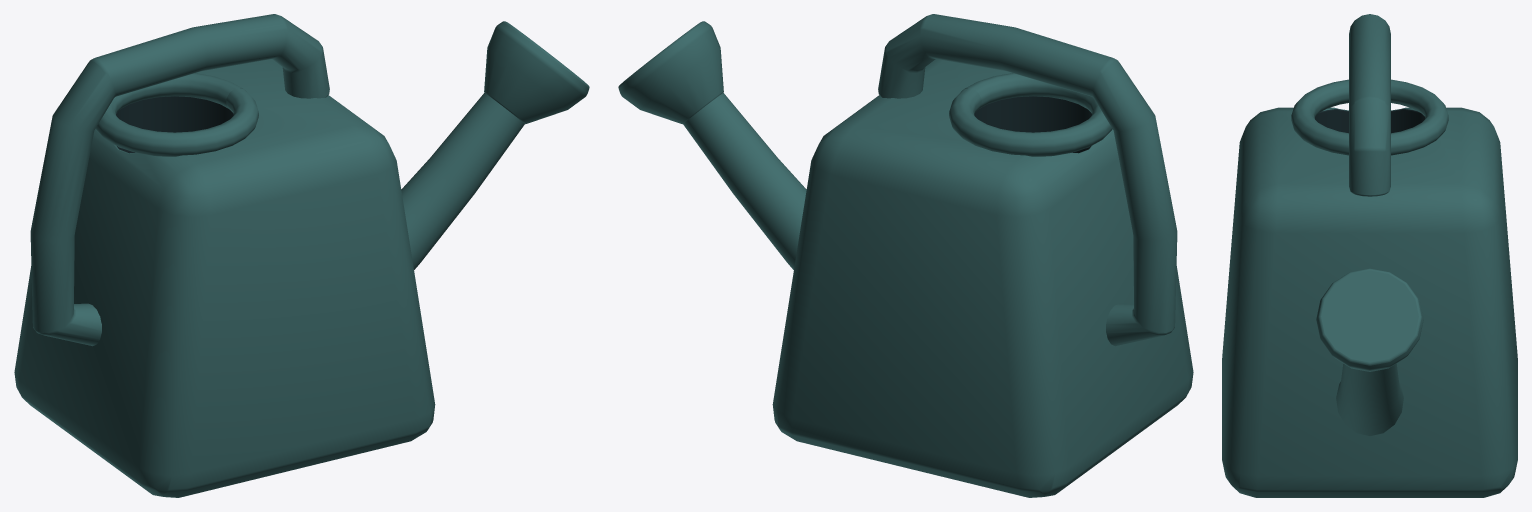
Rendered from tool_wateringcan_iron.fbx.
3 renders of one model, left to right at view 1: azimuth 30°, elevation 25°; view 2: azimuth 150°, elevation 25°; view 3: azimuth 270°, elevation 25°, orthographic. The views are drawn at different scales.
Parts seen in each view (by area): view 1: WateringCan; view 2: WateringCan; view 3: WateringCan.
Boxes of the visible parts, bbox=[...] form: WateringCan: bbox=[14, 14, 589, 497]; WateringCan: bbox=[618, 14, 1193, 497]; WateringCan: bbox=[1222, 14, 1517, 497].
Bounding box in the file's own units: 0.9845 × 0.69 × 0.4917.
